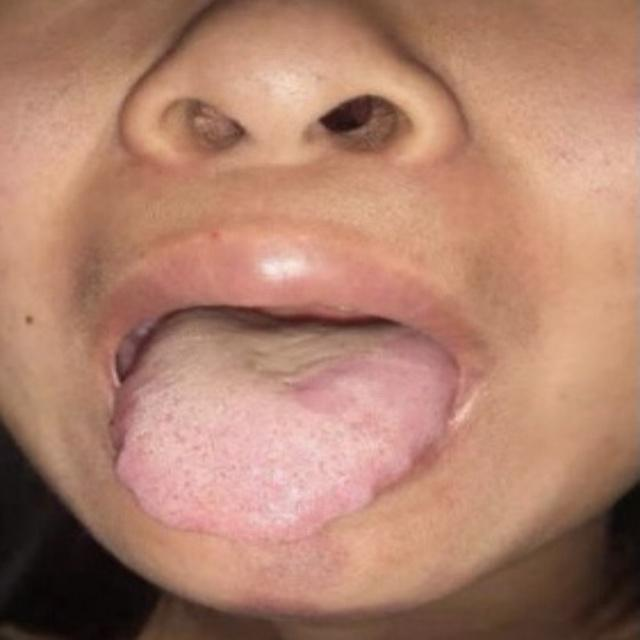baitaishe: (111, 310, 459, 545)
chihenshe: (361, 431, 442, 508), (113, 382, 145, 475)
